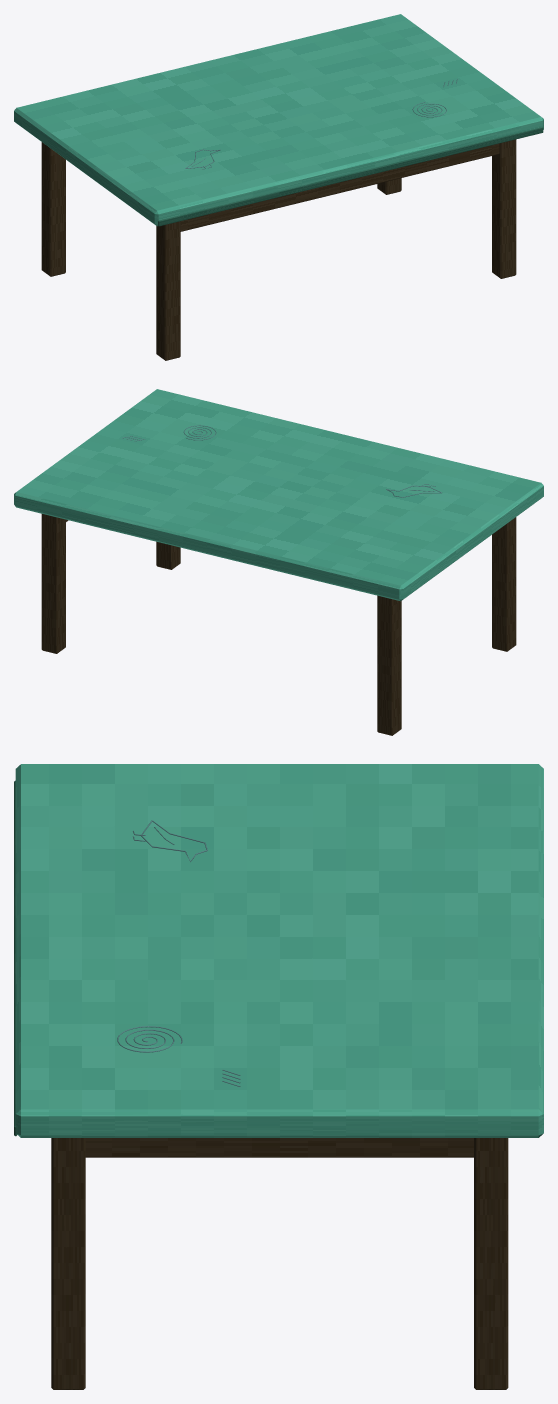
Rendered from retro_mesa_v4.glb.
3 renders of one model, top to bottom at view 1: azimuth 30°, elevation 25°; view 2: azimuth 150°, elevation 25°; view 3: azimuth 270°, elevation 25°, orthographic. The views are drawn at different scales.
Visible parts, largest first — view 1: Tampo espesso chanfrado, Saia frontal, Perna madeira.001, Perna madeira.003, Perna madeira, Faixa frontal do laminado; view 2: Tampo espesso chanfrado, Perna madeira.002, Perna madeira, Perna madeira.001, Perna madeira.003; view 3: Tampo espesso chanfrado, Perna madeira.002, Perna madeira.003, Travessa lateral.001.
Boxes of the visible parts, bbox=[...] form: Tampo espesso chanfrado: bbox=[14, 14, 543, 226]; Saia frontal: bbox=[180, 143, 499, 231]; Perna madeira.001: bbox=[156, 221, 180, 360]; Perna madeira.003: bbox=[492, 139, 516, 278]; Perna madeira: bbox=[41, 142, 65, 276]; Faixa frontal do laminado: bbox=[158, 127, 543, 226]; Tampo espesso chanfrado: bbox=[14, 389, 543, 601]; Perna madeira.002: bbox=[41, 514, 65, 653]; Perna madeira: bbox=[377, 595, 401, 735]; Perna madeira.001: bbox=[492, 517, 516, 651]; Perna madeira.003: bbox=[156, 541, 180, 569]; Tampo espesso chanfrado: bbox=[15, 764, 543, 1137]; Perna madeira.002: bbox=[474, 1138, 508, 1389]; Perna madeira.003: bbox=[51, 1138, 85, 1389]; Travessa lateral.001: bbox=[85, 1138, 473, 1157].
Bounding box in the file's own units: 1.88 × 0.7456 × 1.2.
Materials: 4 (3 with a texture image).
